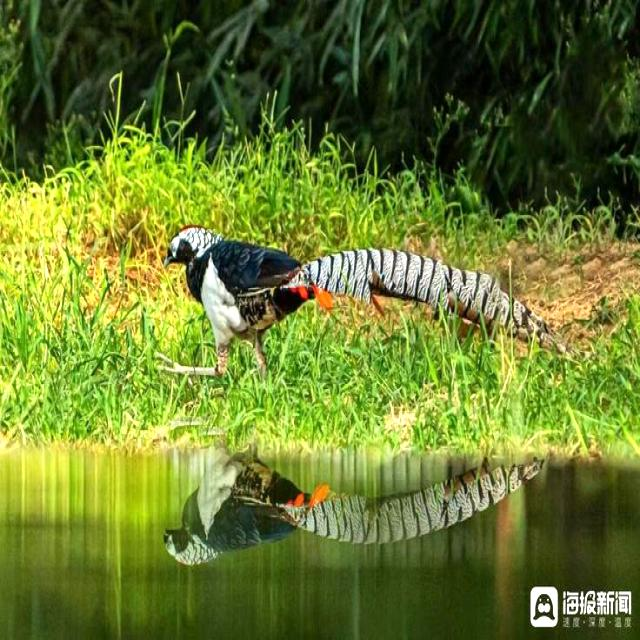Chrysolophus amherstiae: (294, 248, 548, 342)
